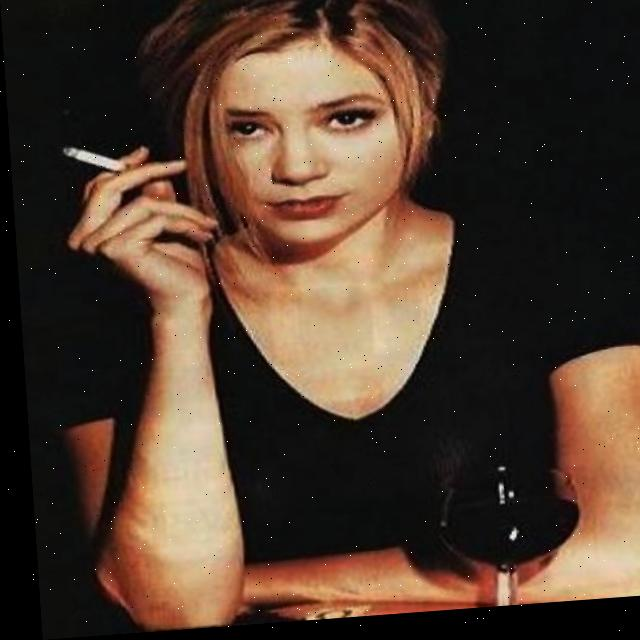cigarette: (56, 142, 133, 182)
